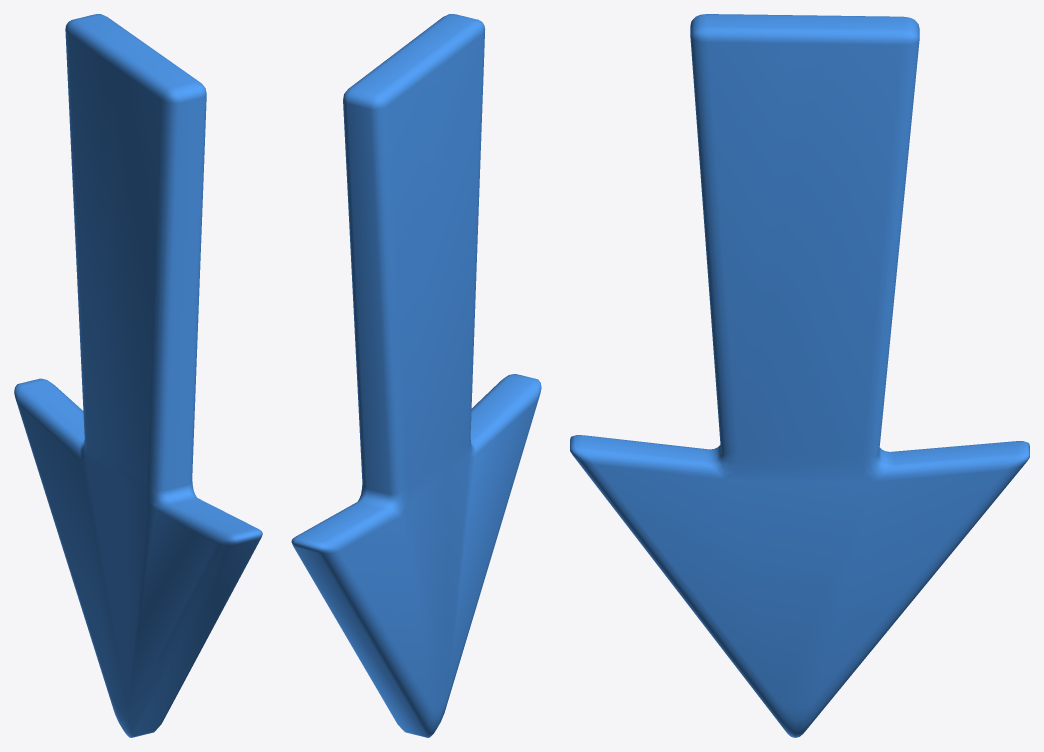
The model's file is Arrow_straight.glb.
The picture shows the model from 3 angles, left to right: view 1: azimuth 30°, elevation 25°; view 2: azimuth 150°, elevation 25°; view 3: azimuth 270°, elevation 25°; orthographic projection. The views are drawn at different scales.
Parts seen in each view (by area): view 1: Arrow_straight; view 2: Arrow_straight; view 3: Arrow_straight.
Boxes of the visible parts, x1=… form: Arrow_straight: x1=14, y1=14, x2=262, y2=737; Arrow_straight: x1=291, y1=14, x2=541, y2=737; Arrow_straight: x1=570, y1=14, x2=1029, y2=737.
Bounding box in the file's own units: 0.2343 × 3.6 × 2.11.
